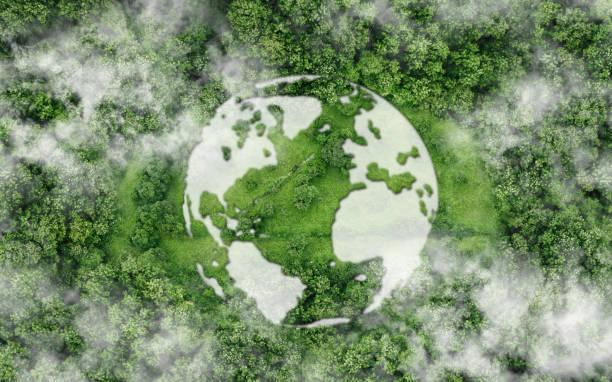Non_Gorille: (101, 9, 547, 373)
